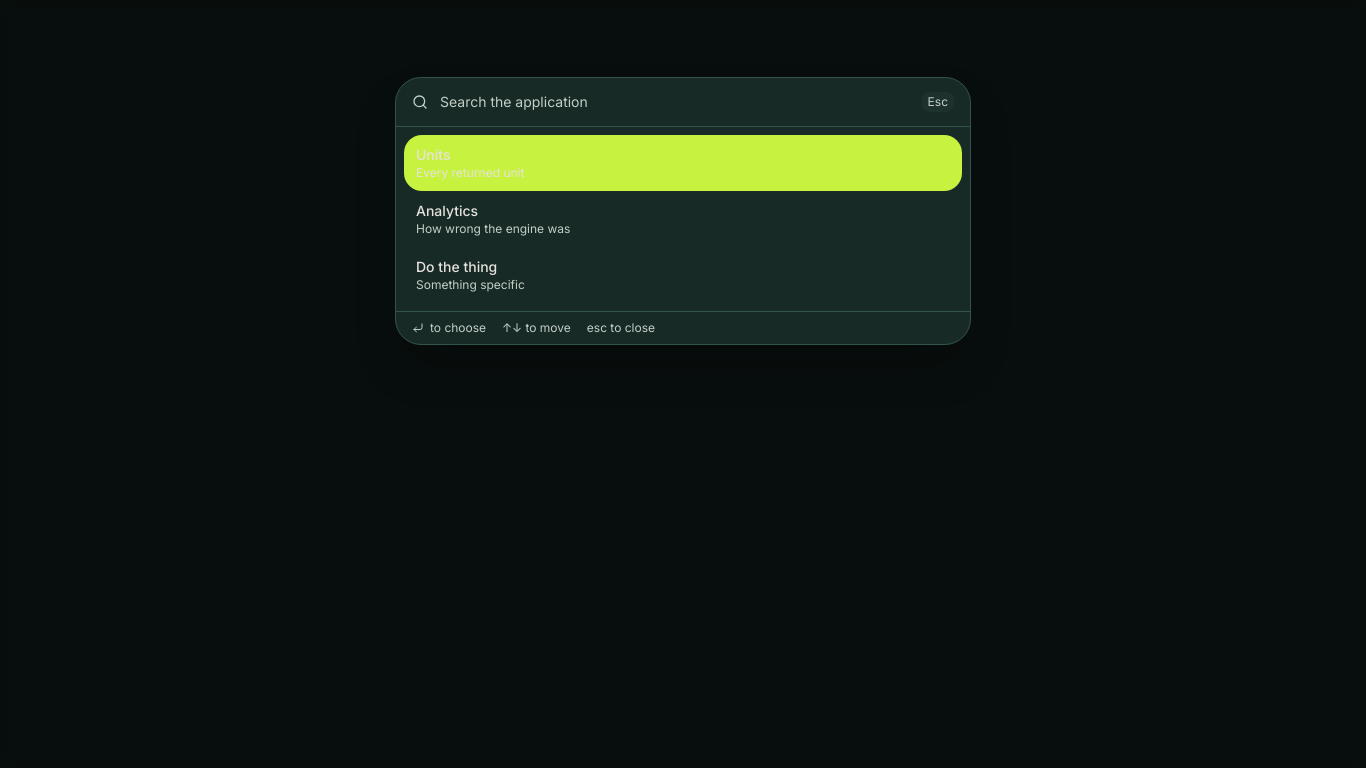
CommandPalette › says when nothing matches
The width and height of the screenshot is (1366, 768).
Type "zzzz" into the field named "type to search" at {"x": 675, "y": 102}, box x1=440 y1=78 x2=910 y2=126
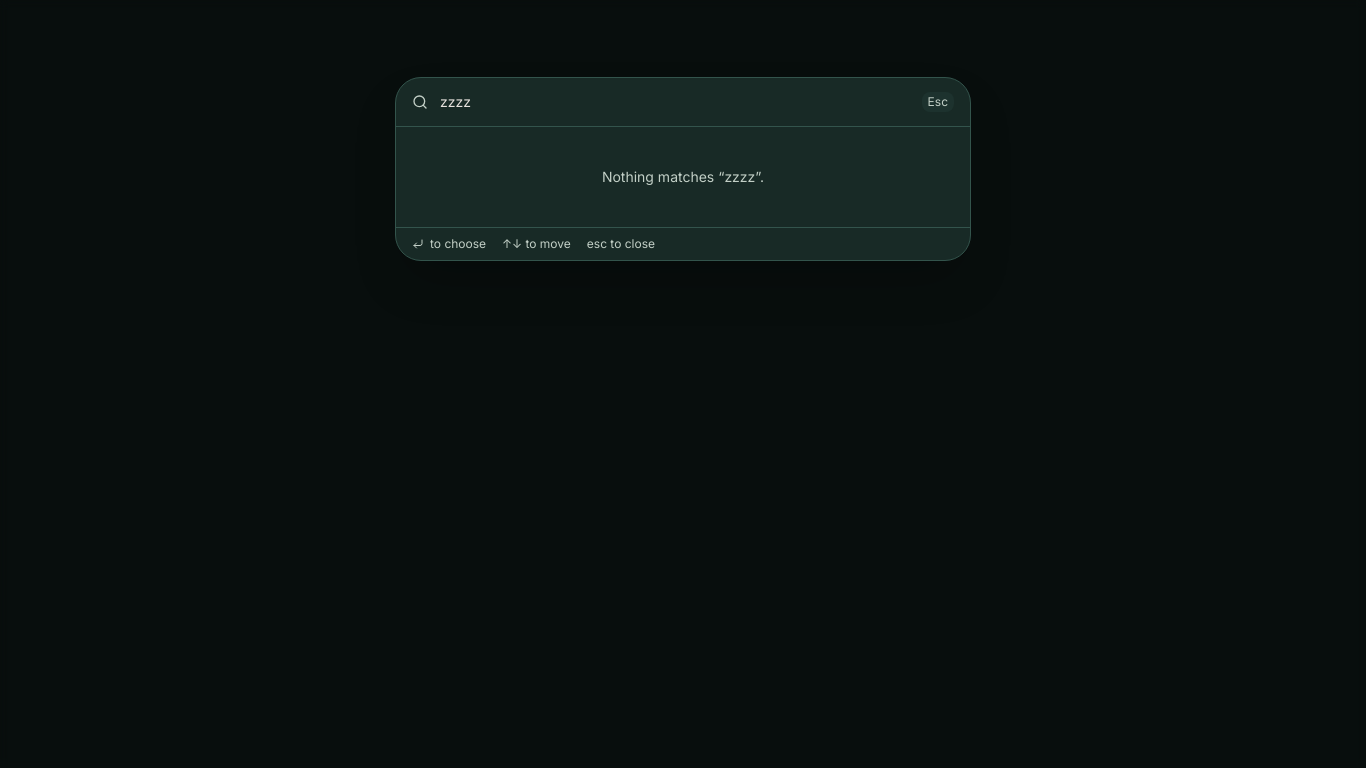
Result: the text "Nothing matches “zzzz”." is shown at x1=602 y1=168 x2=764 y2=185
